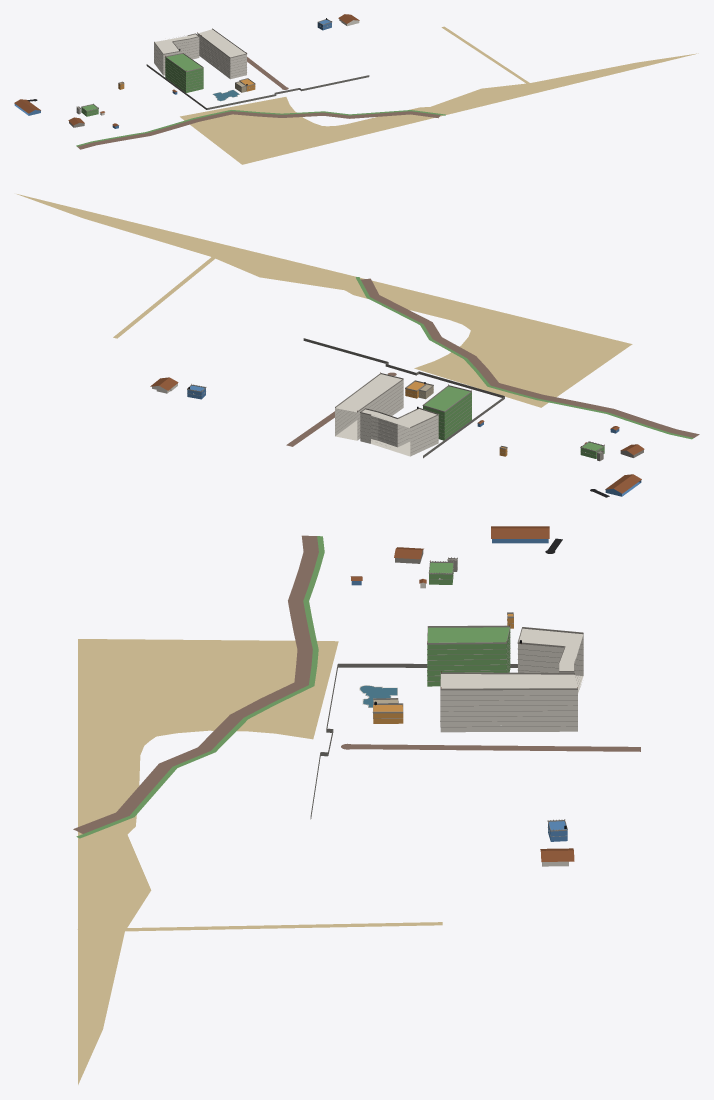
The model's file is zone_t5_-2.glb.
3 renders of one model, top to bottom at view 1: azimuth 30°, elevation 25°; view 2: azimuth 150°, elevation 25°; view 3: azimuth 270°, elevation 25°, orthographic. The views are drawn at different scales.
Visible parts, largest first — view 1: zone_plage_t5_-2, bld_peinture_blanc_t5_-2-col, promenade_t5_-2, bld_peinture_vert_t5_-2-col, piste_cyclable_t5_-2, bandeau_t5_-2, mur_wall_t5_-2-col, parapet_t5_-2, toit_tole_t5_-2, route_service_terre_t5_-2; view 2: zone_plage_t5_-2, bld_peinture_blanc_t5_-2-col, promenade_t5_-2, bld_peinture_vert_t5_-2-col, piste_cyclable_t5_-2, bandeau_t5_-2, mur_wall_t5_-2-col, parapet_t5_-2, toit_tole_t5_-2, route_service_terre_t5_-2; view 3: zone_plage_t5_-2, bld_peinture_blanc_t5_-2-col, promenade_t5_-2, bld_peinture_vert_t5_-2-col, piste_cyclable_t5_-2, bandeau_t5_-2, parapet_t5_-2, route_unclassified_paves_t5_-2, toit_tole_t5_-2, route_service_terre_t5_-2.
Part boxes in pixels (x1,y1,x2,y2): zone_plage_t5_-2: (180,53,698,164); bld_peinture_blanc_t5_-2-col: (100,19,359,115); promenade_t5_-2: (77,111,440,149); bld_peinture_vert_t5_-2-col: (81,54,203,116); piste_cyclable_t5_-2: (76,110,445,146); bandeau_t5_-2: (77,25,331,114); mur_wall_t5_-2-col: (146,64,369,109); parapet_t5_-2: (76,19,332,111); toit_tole_t5_-2: (14,14,359,126); route_service_terre_t5_-2: (441,26,542,92); zone_plage_t5_-2: (17,194,632,407); bld_peinture_blanc_t5_-2-col: (152,374,438,456); promenade_t5_-2: (360,278,699,437); bld_peinture_vert_t5_-2-col: (423,386,604,458); piste_cyclable_t5_-2: (356,277,693,439); bandeau_t5_-2: (187,383,604,457); mur_wall_t5_-2-col: (303,338,504,458); parapet_t5_-2: (187,373,604,454); toit_tole_t5_-2: (150,377,644,493); route_service_terre_t5_-2: (113,245,230,338); zone_plage_t5_-2: (78,639,338,1084); bld_peinture_blanc_t5_-2-col: (420,583,583,866); promenade_t5_-2: (73,535,318,833); bld_peinture_vert_t5_-2-col: (427,562,510,686); piste_cyclable_t5_-2: (76,536,324,838); bandeau_t5_-2: (373,565,583,836); parapet_t5_-2: (373,557,583,831); route_unclassified_paves_t5_-2: (341,743,640,751); toit_tole_t5_-2: (350,526,574,861); route_service_terre_t5_-2: (77,922,442,932).
Size of the model in its own units: 680 by 26 by 295.
